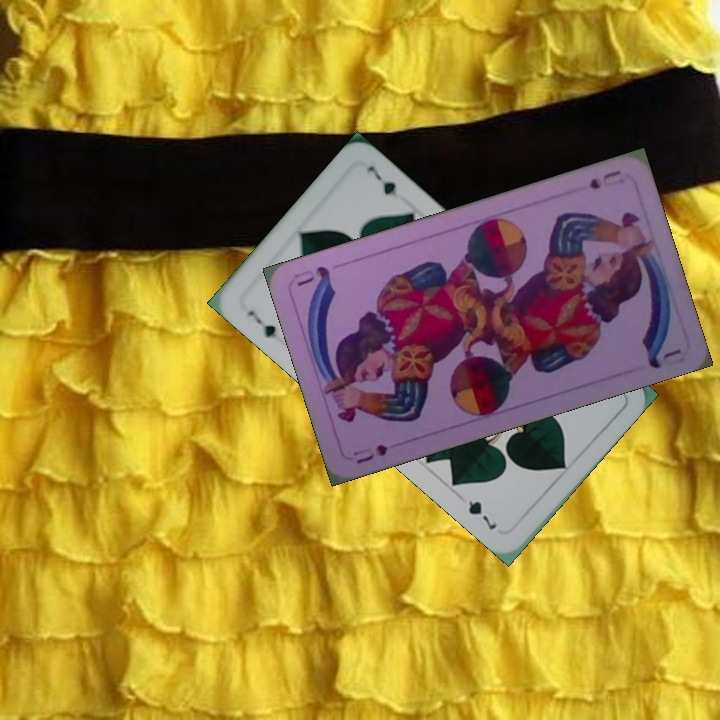G7: (243, 306, 280, 341)
SU: (585, 166, 627, 192), (349, 440, 390, 466)
